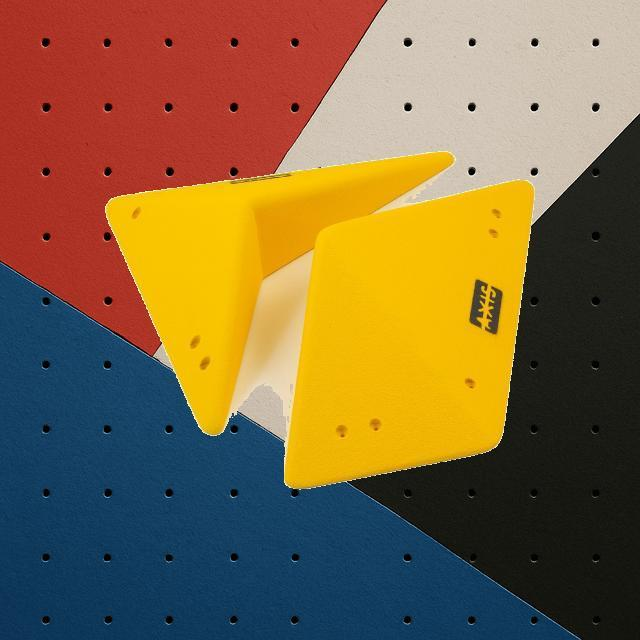Volume: (106, 152, 457, 438), (282, 178, 534, 490)
